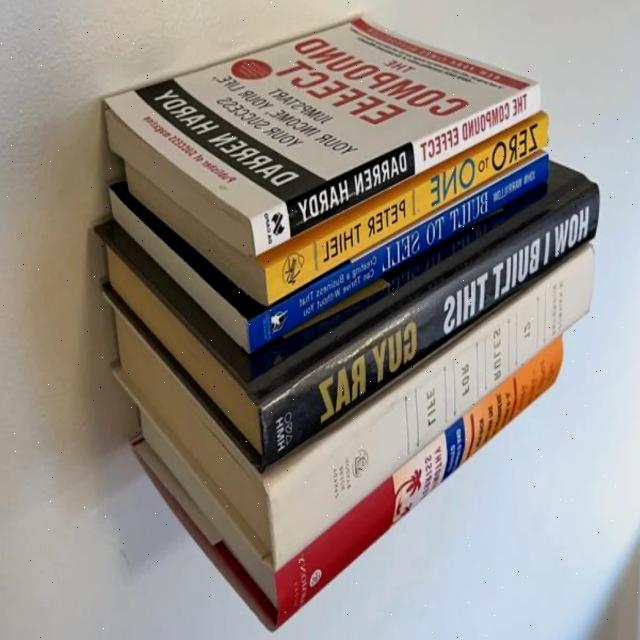book: (270, 249, 591, 570), (263, 185, 596, 461), (106, 15, 533, 218), (245, 156, 550, 353), (264, 115, 548, 303), (252, 82, 543, 256)
